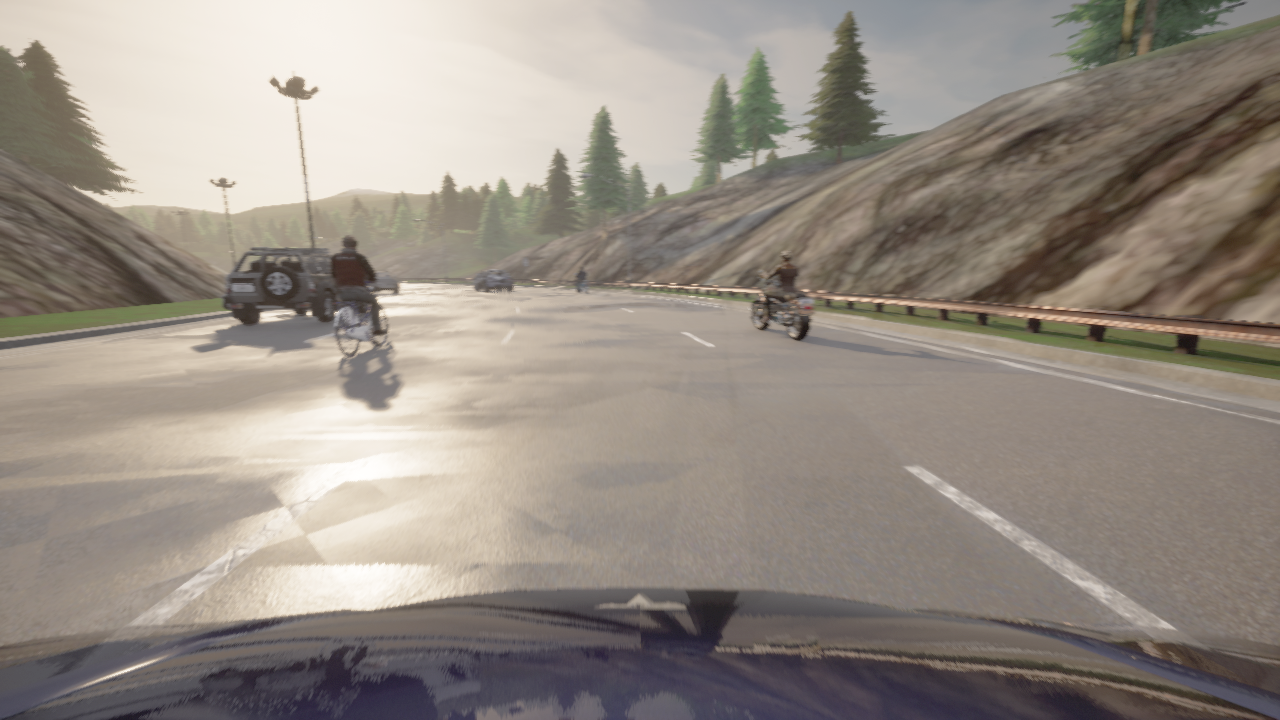cyclist: (0, 588, 1279, 719), (222, 248, 369, 324), (751, 270, 814, 340), (334, 282, 387, 356), (473, 270, 512, 291), (365, 271, 399, 294), (574, 273, 588, 293)
